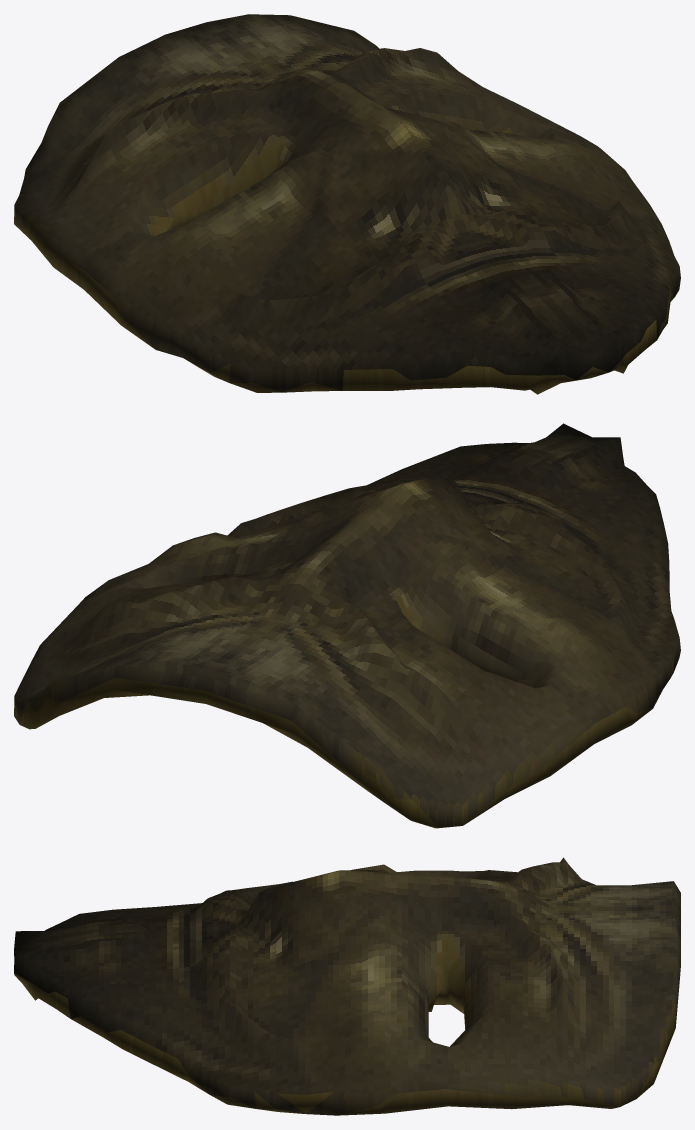
File: mask_3.glb
The picture shows the model from 3 angles, top to bottom: view 1: azimuth 30°, elevation 25°; view 2: azimuth 150°, elevation 25°; view 3: azimuth 270°, elevation 25°; orthographic projection. The views are drawn at different scales.
Visible parts, largest first — view 1: mask_3; view 2: mask_3; view 3: mask_3.
Boxes of the visible parts, bbox=[...] form: mask_3: bbox=[14, 14, 680, 394]; mask_3: bbox=[14, 423, 680, 828]; mask_3: bbox=[14, 857, 680, 1115].
Size of the model in its own units: 0.2319 by 0.0743 by 0.3044.
Materials: 1 (1 with a texture image).
